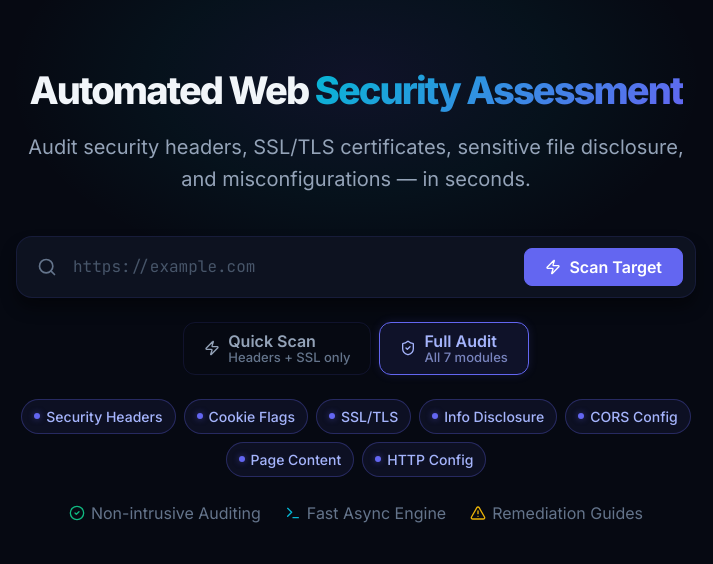
Test: ScanPage › rejects an invalid URL
This screenshot has width=713, height=564.
Type "http://" into the field with placeholder "https://example.com" at (291, 267), box [65,245,516,289]
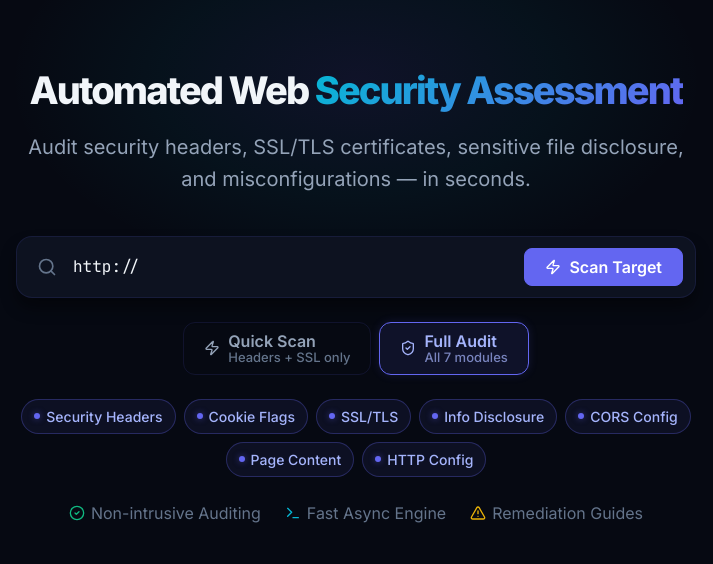
Click the button "Scan Target" at (604, 267), box [524,248,683,286]
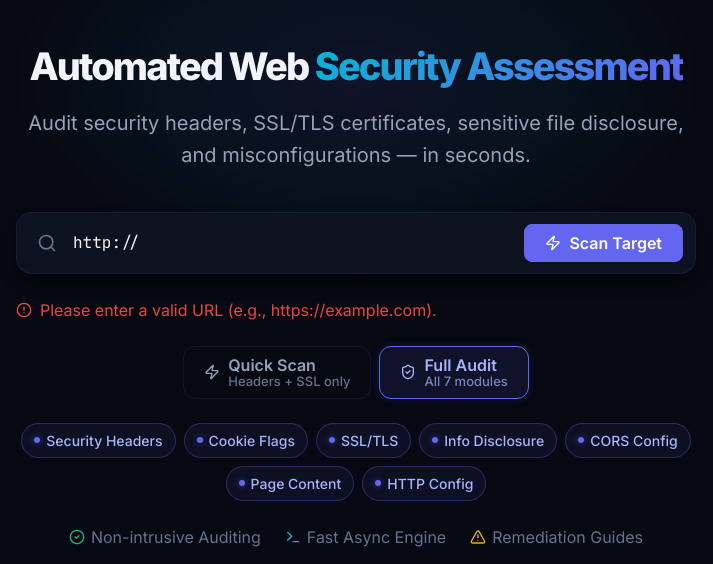
expect the text "Please enter a valid URL (e.g., https://example.com)." is shown: met, box [16,300,437,320]
